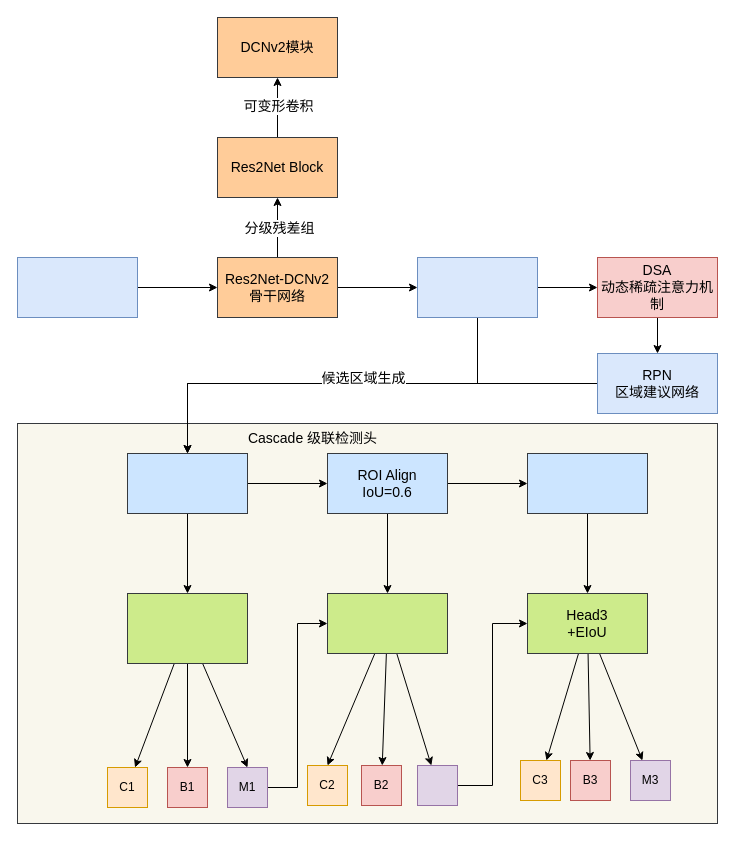
The diagram is 735 pixels wide and 841 high, and some of its shapes have lost their labels. The shapes that lost their labels are listed below. From the top down, each one's centre as x and y in pixels, then its label:
At point 77,287: "输入图像".
At point 477,287: "FPN 特征金字塔".
At point 187,483: "ROI Align IoU=0.5".
At point 587,483: "ROI Align IoU=0.7".
At point 187,628: "Head1 +EIoU".
At point 387,623: "Head2 +EIoU".
At point 437,785: "M2".
